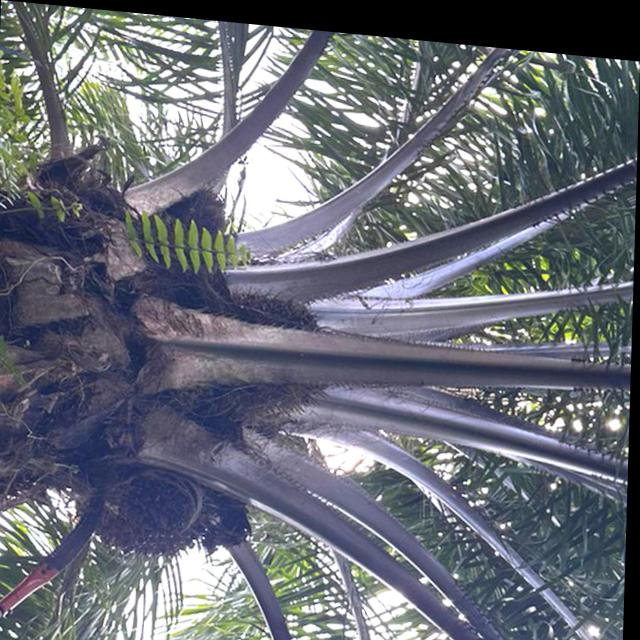unripe: (197, 280, 343, 414), (95, 456, 230, 562)
